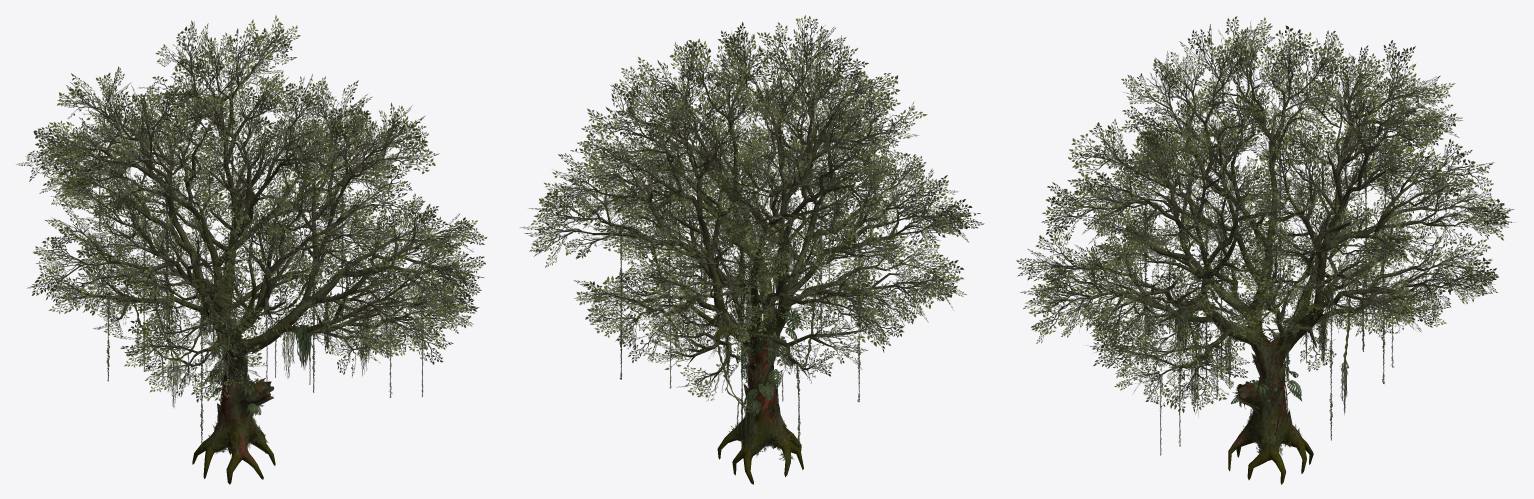
File: tree4.glb
3 renders of one model, left to right at view 1: azimuth 30°, elevation 25°; view 2: azimuth 150°, elevation 25°; view 3: azimuth 270°, elevation 25°, orthographic. The views are drawn at different scales.
Visible parts, largest first — view 1: TreeGen; view 2: TreeGen; view 3: TreeGen.
Part boxes in pixels (bbox=[...]): TreeGen: bbox=[16, 15, 487, 484]; TreeGen: bbox=[519, 15, 984, 484]; TreeGen: bbox=[1016, 16, 1514, 484].
Bounding box in the file's own units: 21.12 × 22.48 × 24.06.
Materials: 6 (6 with a texture image).
